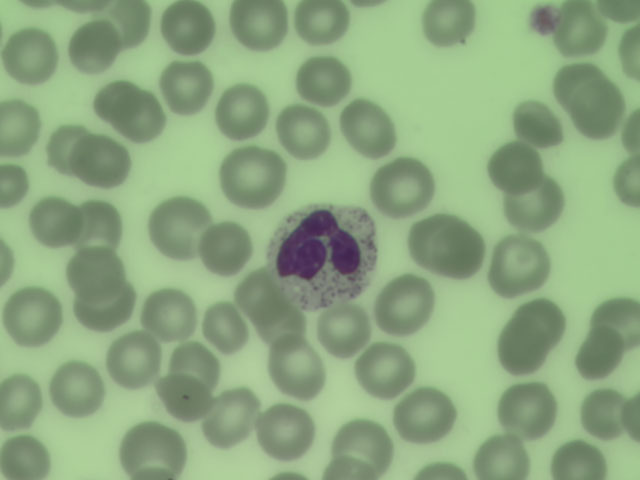Platelets: (527, 5, 561, 37)
RBC: (277, 105, 331, 158), (299, 52, 353, 105), (345, 102, 399, 155), (377, 159, 431, 212), (575, 325, 629, 378), (586, 298, 640, 351), (581, 387, 635, 440), (500, 385, 554, 438), (400, 387, 454, 440), (334, 421, 388, 474), (356, 345, 410, 398), (321, 307, 375, 360), (514, 297, 568, 350), (496, 321, 550, 374), (379, 276, 433, 329), (494, 239, 548, 292), (406, 213, 460, 266), (432, 225, 486, 278), (506, 178, 560, 231), (507, 94, 561, 147), (571, 85, 625, 138), (551, 60, 605, 113), (270, 342, 324, 395), (259, 405, 313, 458), (197, 301, 251, 354), (167, 341, 221, 394), (205, 394, 259, 447), (198, 222, 252, 275), (151, 200, 205, 253), (143, 288, 197, 341), (109, 334, 163, 387), (51, 362, 105, 415), (5, 291, 59, 344), (78, 278, 132, 331), (70, 248, 124, 301), (70, 201, 124, 254), (27, 193, 81, 246), (114, 93, 168, 146), (89, 76, 143, 129), (71, 138, 125, 191), (41, 123, 95, 176), (223, 150, 277, 203), (216, 84, 270, 137), (158, 62, 212, 115), (1, 29, 54, 82), (231, 1, 285, 53), (160, 1, 214, 53), (476, 427, 530, 479), (555, 1, 609, 53), (421, 1, 475, 53), (125, 427, 179, 479), (490, 141, 543, 193), (1, 427, 53, 480), (292, 1, 350, 45), (66, 25, 120, 72), (1, 373, 42, 432), (254, 306, 302, 355), (100, 1, 151, 45), (1, 100, 43, 153), (162, 378, 211, 423), (610, 149, 640, 214), (552, 441, 602, 479), (1, 156, 32, 210)
WBC: (271, 205, 369, 300)
